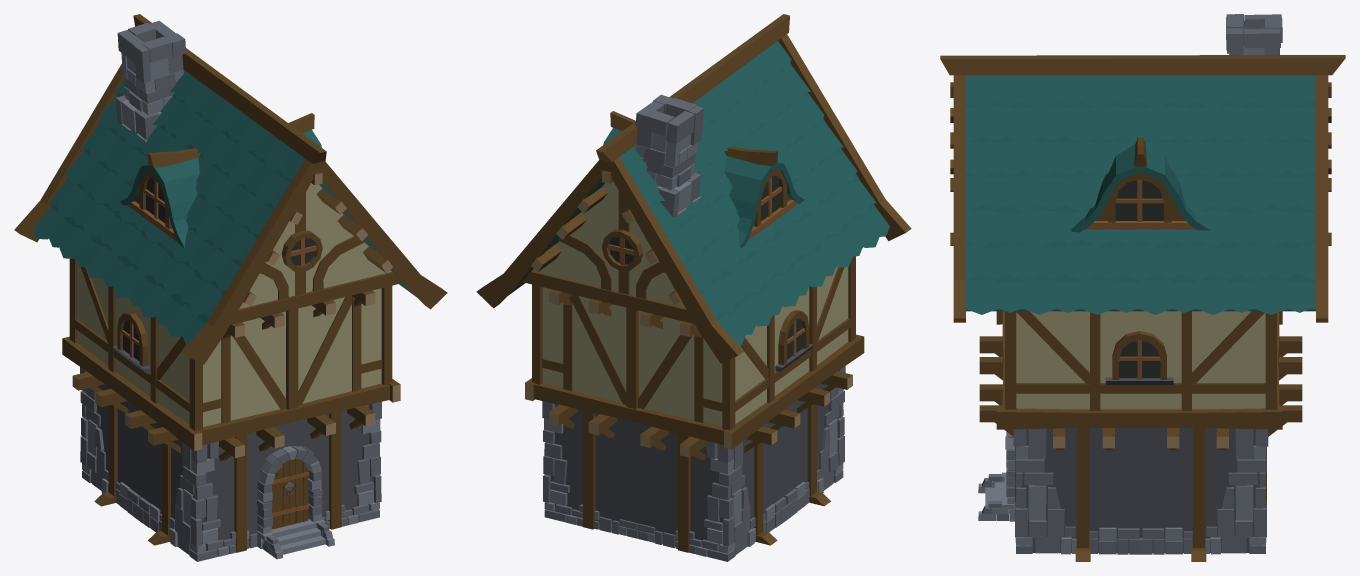
Rendered from house-a.glb.
3 renders of one model, left to right at view 1: azimuth 30°, elevation 25°; view 2: azimuth 150°, elevation 25°; view 3: azimuth 270°, elevation 25°, orthographic. The views are drawn at different scales.
Parts seen in each view (by area): view 1: House_1; view 2: House_1; view 3: House_1.
Boxes of the visible parts, bbox=[...] form: House_1: bbox=[14, 14, 447, 561]; House_1: bbox=[476, 14, 911, 561]; House_1: bbox=[940, 14, 1345, 561].
Size of the model in its own units: 4.43 by 7 by 5.49.
1 material, 1 textured.
